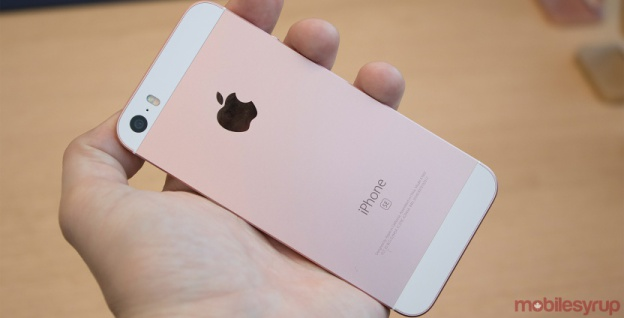apple: (204, 71, 257, 138)
